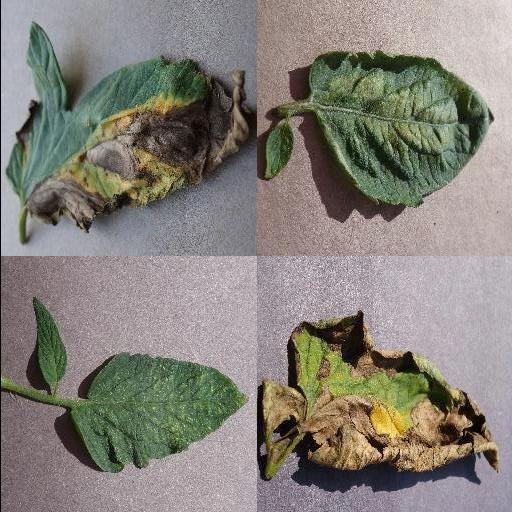Early Blight: (2, 22, 254, 248)
Late Blight: (261, 309, 501, 473)
Spider Mites: (304, 49, 494, 206), (68, 352, 250, 474)
